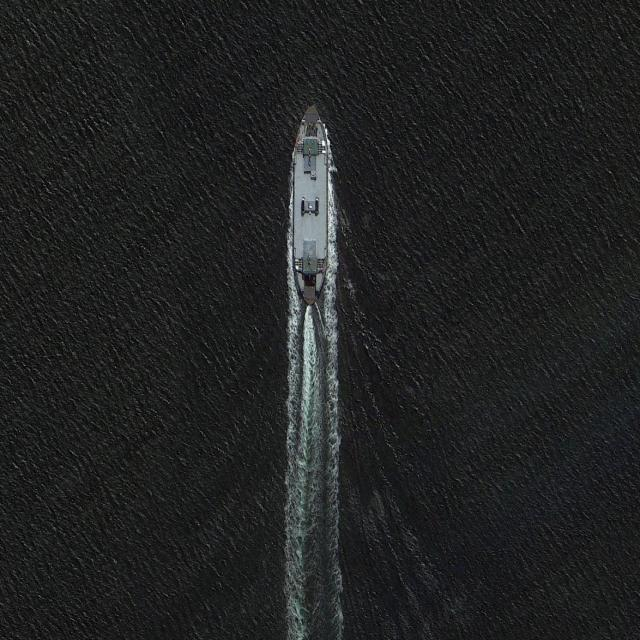RoRo: (292, 103, 328, 304)
